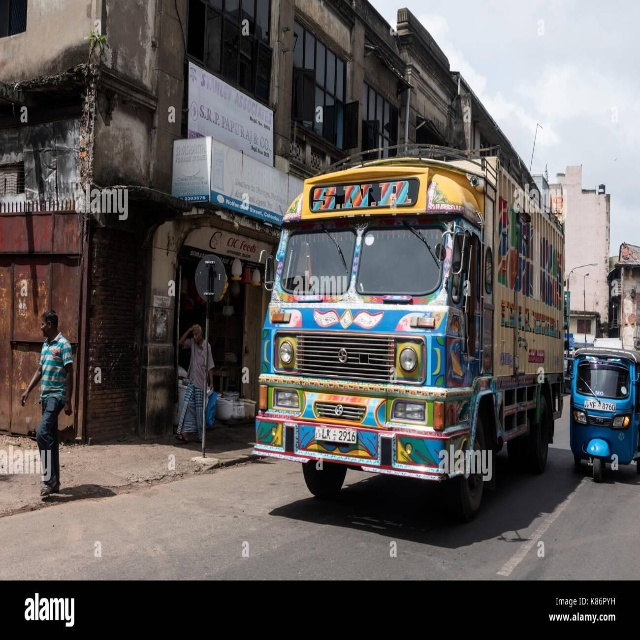Motorcycle: (570, 347, 640, 482)
Truck: (249, 143, 565, 523)
